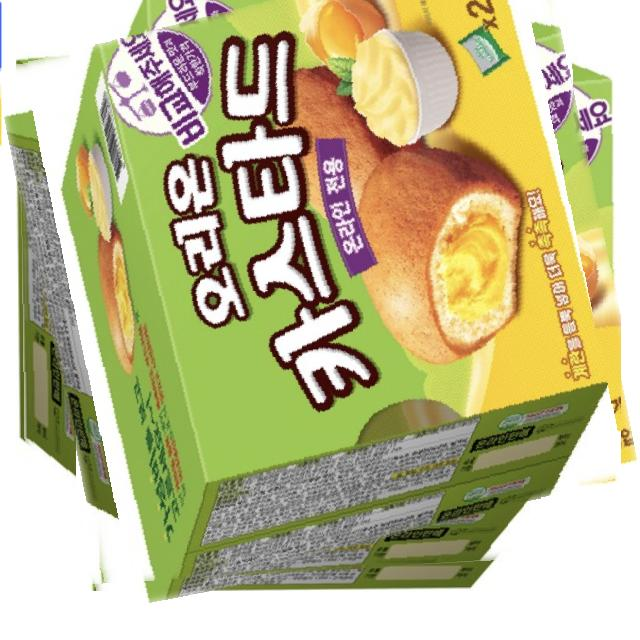biodegradable: (18, 0, 621, 588)
